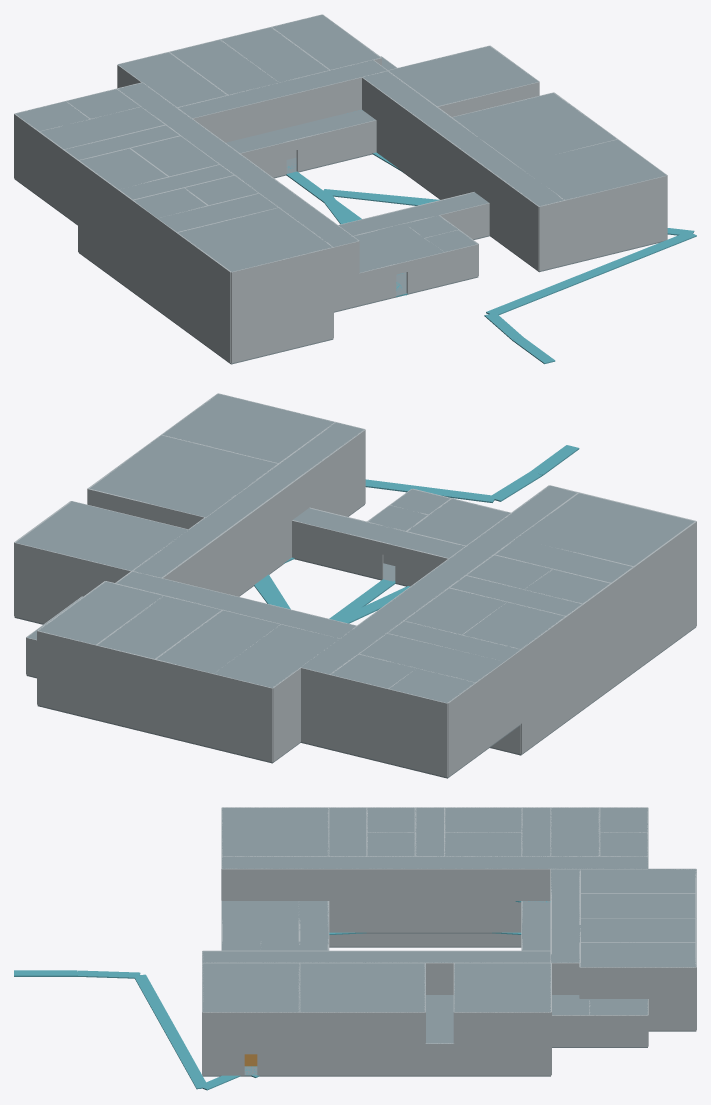
File: rough-shell.glb
The picture shows the model from 3 angles, top to bottom: view 1: azimuth 30°, elevation 25°; view 2: azimuth 150°, elevation 25°; view 3: azimuth 270°, elevation 25°; orthographic projection. The views are drawn at different scales.
Parts seen in each view (by area): view 1: Ceiling cap study, Wall upper-east W, Ceiling cap upper-west, Ceiling cap upper-main-stair, Wall upper-north S, Ceiling cap upper-east-stair, Ceiling cap restricted, Ceiling cap upper-east, Wall upper-main-stair S, Wall upper-east-stair S, Wall east-stair S, Wall main-stair S (+50 smaller); view 2: Ceiling cap study, Wall upper-east W, Ceiling cap upper-west, Ceiling cap upper-main-stair, Ceiling cap restricted, Ceiling cap upper-east-stair, Ceiling cap upper-east, Ceiling cap dorm-1, Ceiling cap dorm-2, Ceiling cap dorm-4, Ceiling cap dorm-3, Ceiling cap upper-north (+57 smaller); view 3: Wall upper-west E.001, Ceiling cap study, Wall west E.001, Ceiling cap upper-main-stair, Ceiling cap upper-west, Ceiling cap upper-east-stair, Ceiling cap restricted, Ceiling cap upper-east, Wall lecture E, Wall study E, Wall dorm-4 E, Wall upper-east-stair E (+40 smaller).
Part boxes in pixels (left/top/right/bottom): Ceiling cap study: left=452, top=93, right=616, bottom=164; Wall upper-east W: left=362, top=77, right=539, bottom=238; Ceiling cap upper-west: left=117, top=82, right=357, bottom=246; Ceiling cap upper-main-stair: left=178, top=208, right=332, bottom=271; Wall upper-north S: left=192, top=75, right=368, bottom=142; Ceiling cap upper-east-stair: left=516, top=139, right=666, bottom=199; Ceiling cap restricted: left=388, top=46, right=538, bottom=106; Ceiling cap upper-east: left=363, top=71, right=563, bottom=206; Wall upper-main-stair S: left=231, top=247, right=333, bottom=304; Wall upper-east-stair S: left=565, top=175, right=667, bottom=232; Wall east-stair S: left=565, top=208, right=667, bottom=264; Wall main-stair S: left=231, top=279, right=333, bottom=336; Ceiling cap study: left=90, top=435, right=277, bottom=517; Wall upper-east W: left=161, top=429, right=365, bottom=587; Ceiling cap upper-west: left=301, top=485, right=577, bottom=674; Ceiling cap upper-main-stair: left=517, top=493, right=694, bottom=566; Ceiling cap restricted: left=16, top=501, right=188, bottom=570; Ceiling cap upper-east-stair: left=162, top=393, right=334, bottom=462; Ceiling cap upper-east: left=133, top=422, right=364, bottom=577; Ceiling cap dorm-1: left=214, top=624, right=339, bottom=687; Ceiling cap dorm-2: left=157, top=610, right=280, bottom=673; Ceiling cap dorm-4: left=39, top=581, right=163, bottom=644; Ceiling cap dorm-3: left=97, top=596, right=220, bottom=658; Ceiling cap upper-north: left=116, top=571, right=355, bottom=638; Wall upper-west E.001: left=222, top=868, right=558, bottom=900; Ceiling cap study: left=299, top=963, right=425, bottom=1012; Wall west E.001: left=329, top=901, right=521, bottom=932; Ceiling cap upper-main-stair: left=222, top=807, right=328, bottom=856; Ceiling cap upper-west: left=222, top=856, right=647, bottom=868; Ceiling cap upper-east-stair: left=202, top=963, right=299, bottom=1012; Ceiling cap restricted: left=454, top=963, right=550, bottom=1012; Ceiling cap upper-east: left=202, top=951, right=550, bottom=962; Wall lecture E: left=299, top=1044, right=425, bottom=1075; Wall study E: left=299, top=1012, right=425, bottom=1043; Wall dorm-4 E: left=580, top=967, right=696, bottom=998; Wall upper-east-stair E: left=202, top=1012, right=299, bottom=1043.
Bounding box in the file's own units: 53.54 × 10.36 × 70.58.
